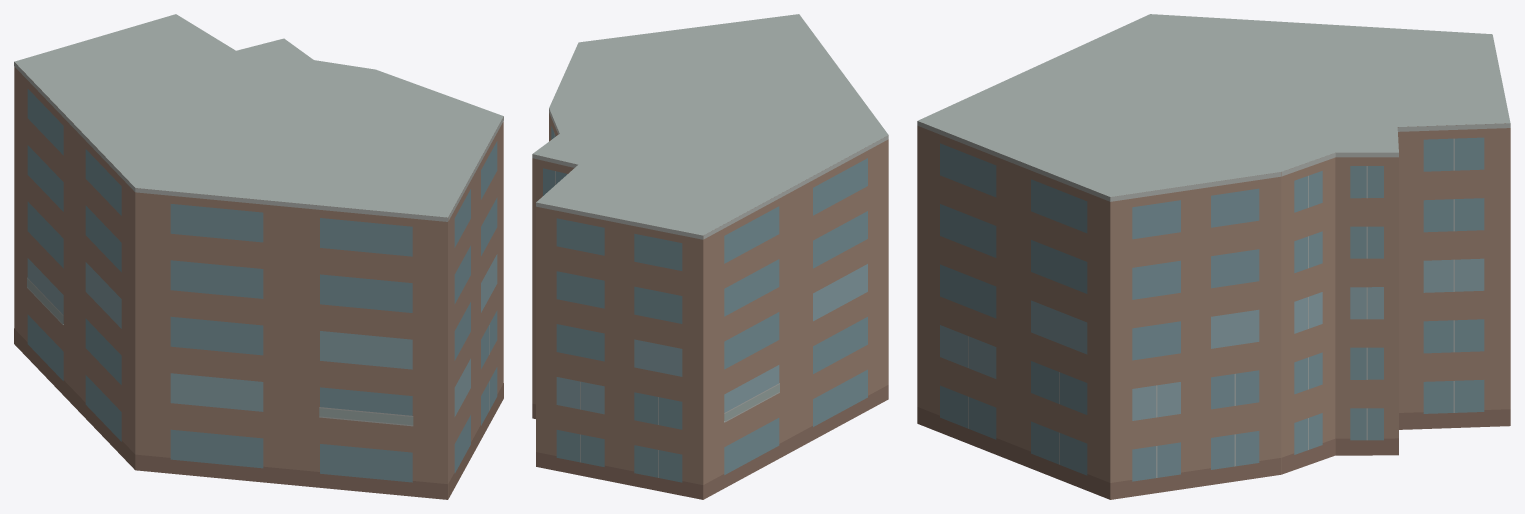
Rendered from survey-upis-33001941.glb.
The picture shows the model from 3 angles, left to right: view 1: azimuth 30°, elevation 25°; view 2: azimuth 150°, elevation 25°; view 3: azimuth 270°, elevation 25°; orthographic projection. The views are drawn at different scales.
Parts seen in each view (by area): view 1: survey-upis-33001941.tmp; view 2: survey-upis-33001941.tmp; view 3: survey-upis-33001941.tmp.
Boxes of the visible parts, x1,y1,x2,y2 form: survey-upis-33001941.tmp: (14,14,503,499); survey-upis-33001941.tmp: (532,14,888,499); survey-upis-33001941.tmp: (917,14,1510,499).
Bounding box in the file's own units: 20.11 × 15.5 × 27.53.
